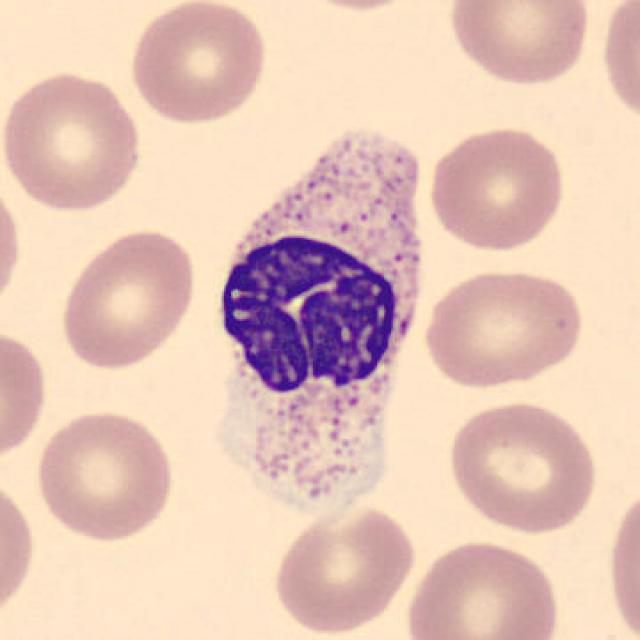Neutrophil: (201, 134, 432, 547)
RBC: (442, 395, 602, 536), (0, 65, 148, 215), (55, 224, 201, 372), (418, 264, 586, 392), (268, 499, 418, 638), (32, 404, 178, 545), (425, 122, 569, 254), (124, 0, 272, 127), (402, 534, 565, 640), (444, 0, 594, 88), (0, 322, 50, 466), (0, 472, 39, 630), (602, 479, 640, 640), (597, 0, 640, 132), (0, 173, 25, 319), (284, 0, 426, 14)
